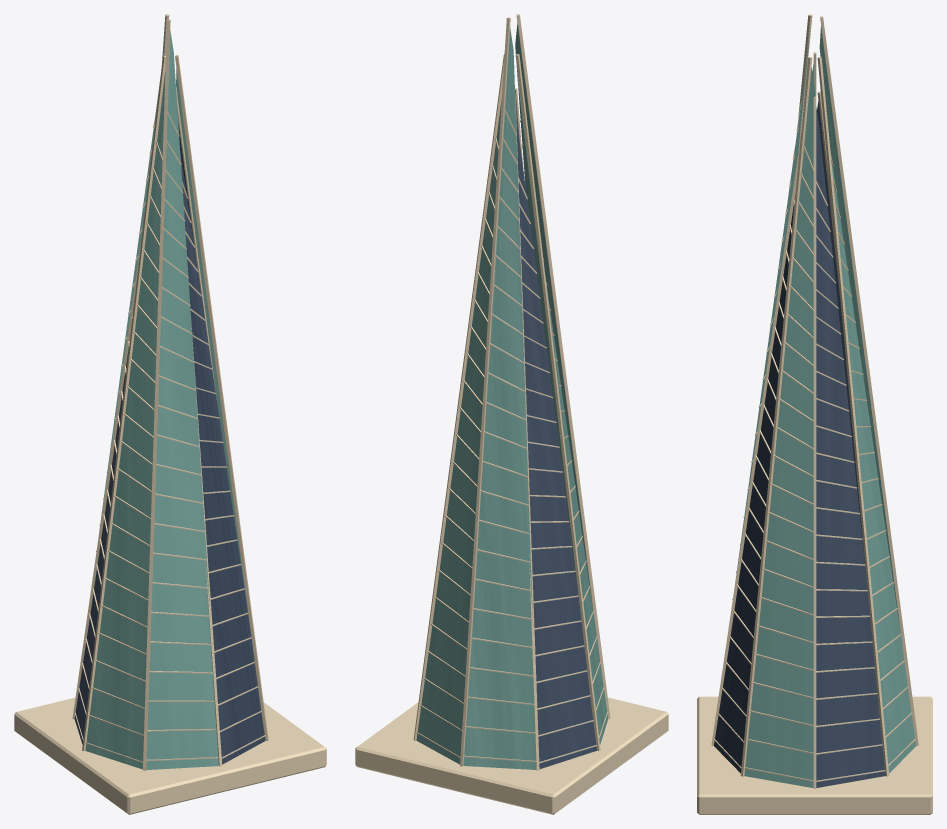
Rendered from the-shard.glb.
The picture shows the model from 3 angles, left to right: view 1: azimuth 30°, elevation 25°; view 2: azimuth 150°, elevation 25°; view 3: azimuth 270°, elevation 25°; orthographic projection. The views are drawn at different scales.
Visible parts, largest first — view 1: the-shard; view 2: the-shard; view 3: the-shard.
Part boxes in pixels (x1,y1,x2,y2): the-shard: [14, 14, 326, 814]; the-shard: [355, 14, 668, 814]; the-shard: [697, 14, 932, 814].
Bounding box in the file's own units: 3.6 × 12.63 × 3.6.
Materials: 1 (1 with a texture image).
